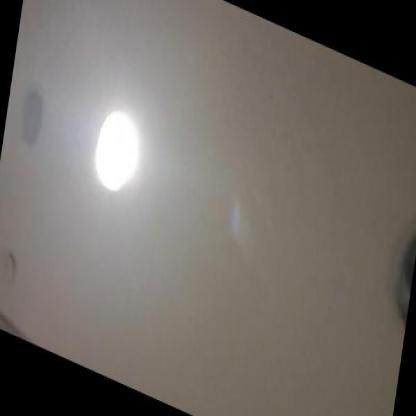light_off: (372, 197, 415, 338)
